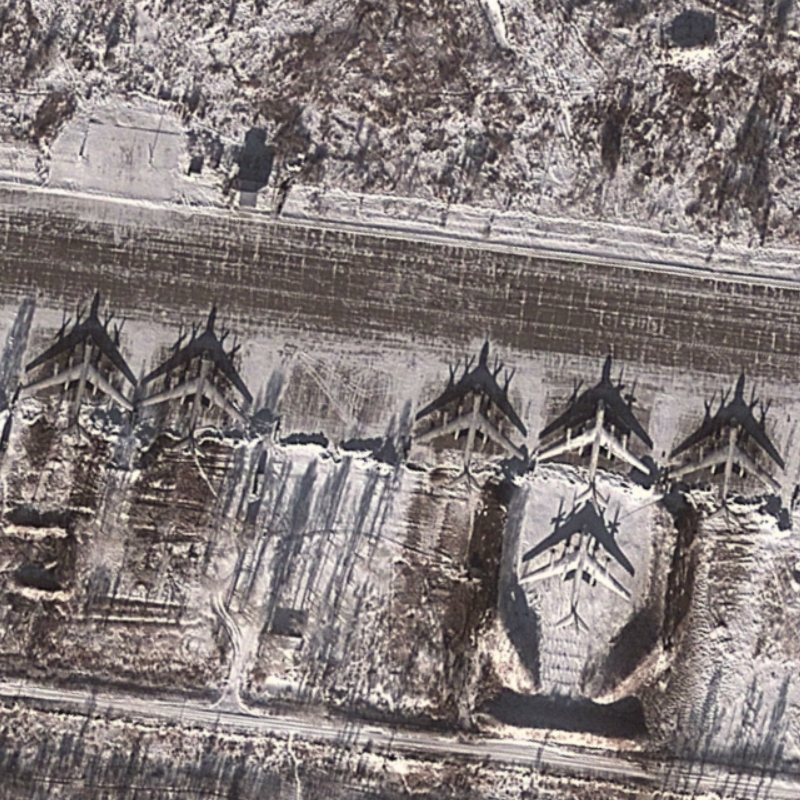A17: (665, 414, 783, 530), (533, 397, 653, 510), (20, 333, 137, 445), (411, 382, 526, 495), (515, 529, 633, 638), (140, 347, 252, 459)
